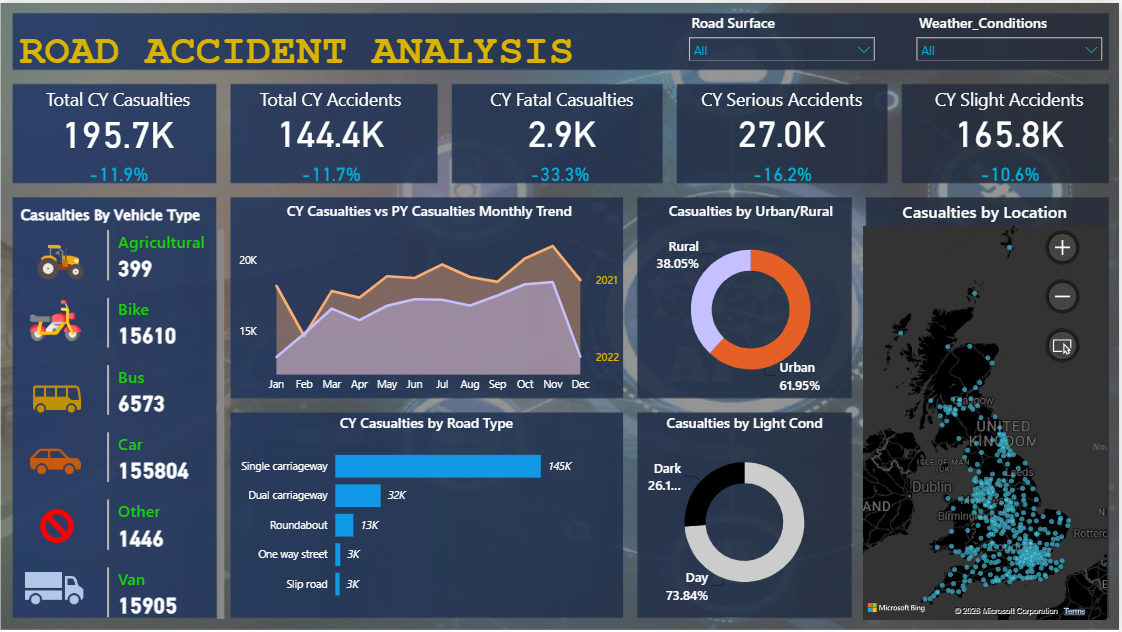

Layout of this report page (visuals, bound fields, positions):
{"tool":"powerbi","page":{"name":"Page 1","canvas":[1280,720],"ordinal":0},"visuals":[{"type":"card","title":"Total CY Casualties","fields":{"Values":["Data.CY Casualties"]},"box":[18,96,232.6,75],"z":0,"group":"g5"},{"type":"card","title":"Total CY Accidents","fields":{"Values":["Data.CY Accidents"]},"box":[261.1,96,232.6,75],"z":0,"group":"g2"},{"type":"card","title":"CY  Fatal Casualties","fields":{"Values":["Data.CY Casualties"]},"box":[523.7,96,235.6,75],"z":0},{"type":"card","title":"CY Serious Accidents","fields":{"Values":["Data.CY Casualties"]},"box":[777.3,96,232.6,75],"z":0,"group":"g3"},{"type":"card","title":"CY Slight Accidents","fields":{"Values":["Data.CY Casualties"]},"box":[1036.9,96,232.6,75],"z":0,"group":"g4"},{"type":"group","id":"g1","title":"Group 2","box":[18,96,232.6,123],"z":4,"group":"g6"},{"type":"group","id":"g2","title":"Group 2","box":[261.1,96,232.6,123],"z":4,"group":"g7"},{"type":"group","id":"g3","title":"Group 2","box":[777.3,96,232.6,123],"z":4,"group":"g8"},{"type":"group","id":"g4","title":"Group 2","box":[1036.9,96,232.6,123],"z":4,"group":"g9"},{"type":"group","id":"g5","title":"Group 3","box":[18,96,232.6,123],"z":5,"group":"g1"},{"type":"group","id":"g6","title":"Group 1","box":[18,96,232.6,123],"z":1000},{"type":"card","title":"Total CY Casualties","fields":{"Values":["Data.YoY Casualties"]},"box":[93,171,82.5,48],"z":1000,"group":"g5"},{"type":"card","title":"Total CY Casualties","fields":{"Values":["Data.YoY Accidents"]},"box":[336.1,171,82.5,48],"z":1000,"group":"g2"},{"type":"card","title":"Total CY Casualties","fields":{"Values":["Data.YoY Casualties"]},"box":[852.3,171,82.5,48],"z":1000,"group":"g3"},{"type":"card","title":"Total CY Casualties","fields":{"Values":["Data.YoY Casualties"]},"box":[1111.9,171,82.5,48],"z":1000,"group":"g4"},{"type":"group","id":"g7","title":"Group 1","box":[261.1,96,232.6,123],"z":2000},{"type":"card","title":"Total CY Casualties","fields":{"Values":["Data.YoY Casualties"]},"box":[598.7,172.6,82.5,46.5],"z":3000},{"type":"group","id":"g8","title":"Group 1","box":[777.3,96,232.6,123],"z":4000},{"type":"group","id":"g9","title":"Group 1","box":[1036.9,96,232.6,123],"z":5000},{"type":"textbox","box":[16.5,24,664.8,82.5],"z":6000},{"type":"multiRowCard","fields":{"Values":["Data.Vehicle_Type (groups)","Data.CY Casualties"]},"box":[117,253.6,144.1,466.7],"z":7000},{"type":"image","box":[18,262.6,100.5,66],"z":8000},{"type":"image","box":[9,328.6,109.5,69],"z":9000},{"type":"image","box":[9,487.7,109.5,73.5],"z":10000},{"type":"image","box":[13.5,417.2,105,70.5],"z":11000},{"type":"image","box":[18,568.7,93,58.5],"z":12000},{"type":"image","box":[7.5,627.2,109.5,82.5],"z":13000},{"type":"textbox","box":[18,225.1,232.6,37.5],"z":14000},{"type":"areaChart","title":"CY Casualties vs PY Casualties Monthly Trend","fields":{"Category":["Calender.Month"],"Series":["Calender.Date.Variation.Date Hierarchy.Year"],"Y":["Sum(Data.Number_of_Casualties)"]},"box":[268.6,225.1,444.2,228.1],"z":15000},{"type":"donutChart","title":"Casualties by Urban/Rural","fields":{"Category":["Data.Urban_or_Rural_Area"],"Y":["Data.CY Casualties"]},"box":[733.8,225.1,247.6,228.1],"z":16000},{"type":"donutChart","title":"Casualties by Light Cond","fields":{"Category":["Data.Light_Conditions (groups)"],"Y":["Data.CY Casualties"]},"box":[727.8,468.2,247.6,228.1],"z":17000},{"type":"barChart","title":"CY Casualties by Road Type","fields":{"Category":["Data.Road_Type"],"Y":["Data.CY Casualties"]},"box":[261.1,468.2,451.7,228.1],"z":18000},{"type":"map","title":"Casualties by Location","fields":{"Category":["Data.Local_Authority_(District)"],"X":["Data.Longitude"],"Y":["Avg(Data.Latitude)"]},"box":[981.4,225.1,288.1,484.7],"z":19000},{"type":"slicer","fields":{"Values":["Data.Weather_Conditions (groups)"]},"box":[1036.9,6,232.6,60],"z":20000},{"type":"slicer","fields":{"Values":["Data.Road_Surface_Conditions (groups)"]},"box":[777.3,6,232.6,60],"z":21000}]}

Visuals, with their boxes in screenshot pixels (x1, y1, x2, y2), scaled from the page's 1280x720 canvas onto the 1122x632 screenshot:
"Total CY Casualties" card: <region>16, 84, 220, 150</region>
"Total CY Accidents" card: <region>229, 84, 433, 150</region>
"CY  Fatal Casualties" card: <region>459, 84, 666, 150</region>
"CY Serious Accidents" card: <region>681, 84, 885, 150</region>
"CY Slight Accidents" card: <region>909, 84, 1113, 150</region>
"Group 2" group: <region>16, 84, 220, 192</region>
"Group 2" group: <region>229, 84, 433, 192</region>
"Group 2" group: <region>681, 84, 885, 192</region>
"Group 2" group: <region>909, 84, 1113, 192</region>
"Group 3" group: <region>16, 84, 220, 192</region>
"Group 1" group: <region>16, 84, 220, 192</region>
"Total CY Casualties" card: <region>82, 150, 154, 192</region>
"Total CY Casualties" card: <region>295, 150, 367, 192</region>
"Total CY Casualties" card: <region>747, 150, 819, 192</region>
"Total CY Casualties" card: <region>975, 150, 1047, 192</region>
"Group 1" group: <region>229, 84, 433, 192</region>
"Total CY Casualties" card: <region>525, 152, 597, 192</region>
"Group 1" group: <region>681, 84, 885, 192</region>
"Group 1" group: <region>909, 84, 1113, 192</region>
textbox: <region>14, 21, 597, 93</region>
multiRowCard - Data.Vehicle_Type (groups) x Data.CY Casualties: <region>103, 223, 229, 631</region>
image: <region>16, 231, 104, 288</region>
image: <region>8, 288, 104, 349</region>
image: <region>8, 428, 104, 493</region>
image: <region>12, 366, 104, 428</region>
image: <region>16, 499, 97, 551</region>
image: <region>7, 551, 103, 623</region>
textbox: <region>16, 198, 220, 231</region>
"CY Casualties vs PY Casualties Monthly Trend" areaChart: <region>235, 198, 625, 398</region>
"Casualties by Urban/Rural" donutChart: <region>643, 198, 860, 398</region>
"Casualties by Light Cond" donutChart: <region>638, 411, 855, 611</region>
"CY Casualties by Road Type" barChart: <region>229, 411, 625, 611</region>
"Casualties by Location" map: <region>860, 198, 1113, 623</region>
slicer - Data.Weather_Conditions (groups): <region>909, 5, 1113, 58</region>
slicer - Data.Road_Surface_Conditions (groups): <region>681, 5, 885, 58</region>
